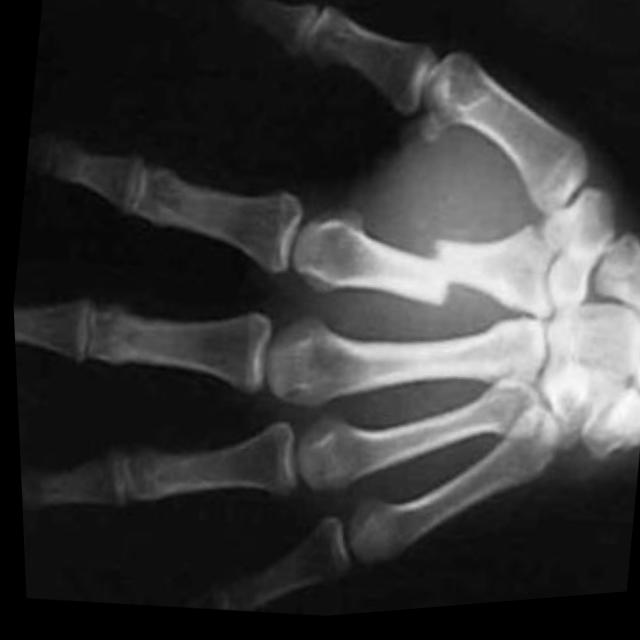fracture: (410, 238, 467, 324)
